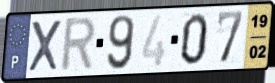0: (180, 12, 211, 67)
4: (140, 13, 168, 69)
7: (216, 9, 246, 66)
9: (106, 13, 136, 72)
R: (58, 15, 98, 75)
X: (26, 18, 64, 74)
